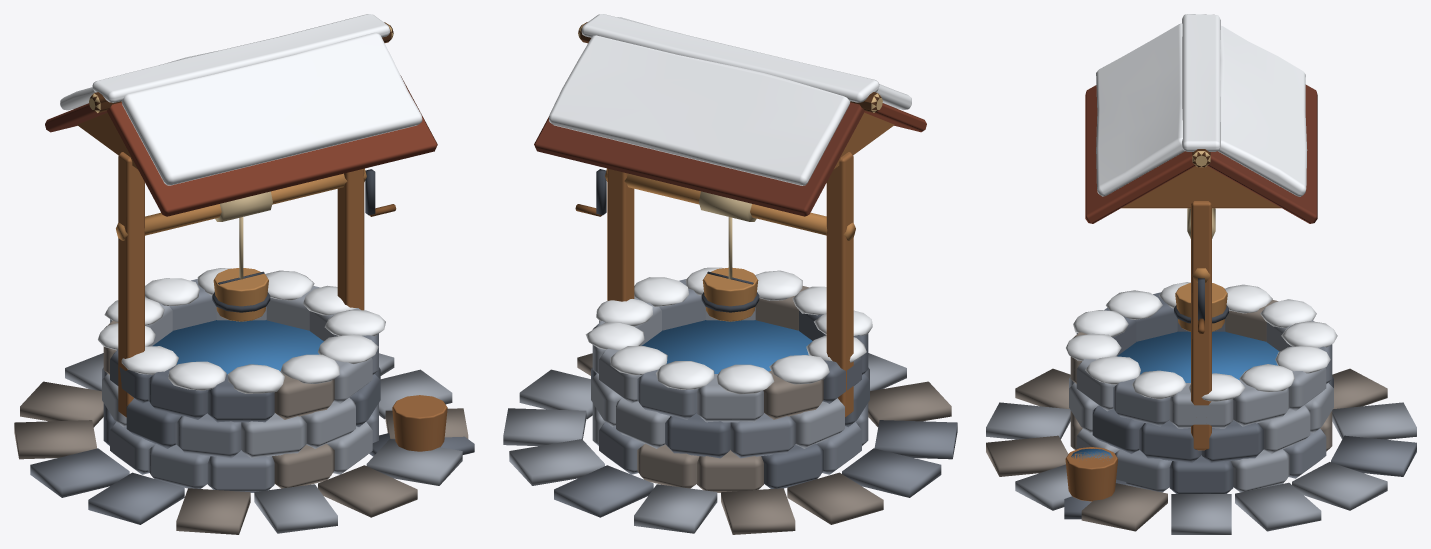
File: well.glb
The picture shows the model from 3 angles, left to right: view 1: azimuth 30°, elevation 25°; view 2: azimuth 150°, elevation 25°; view 3: azimuth 270°, elevation 25°; orthographic projection. The views are drawn at different scales.
Parts seen in each view (by area): view 1: exterior, floor; view 2: exterior, floor; view 3: exterior, floor.
Boxes of the visible parts, box(x1,y1,x2,y2) form: exterior: box(45, 14, 474, 492); floor: box(14, 353, 468, 534); exterior: box(534, 14, 926, 492); floor: box(503, 353, 957, 534); exterior: box(1064, 14, 1337, 519); floor: box(986, 368, 1416, 534).
Size of the model in its own units: 2.42 by 2.29 by 2.43.
